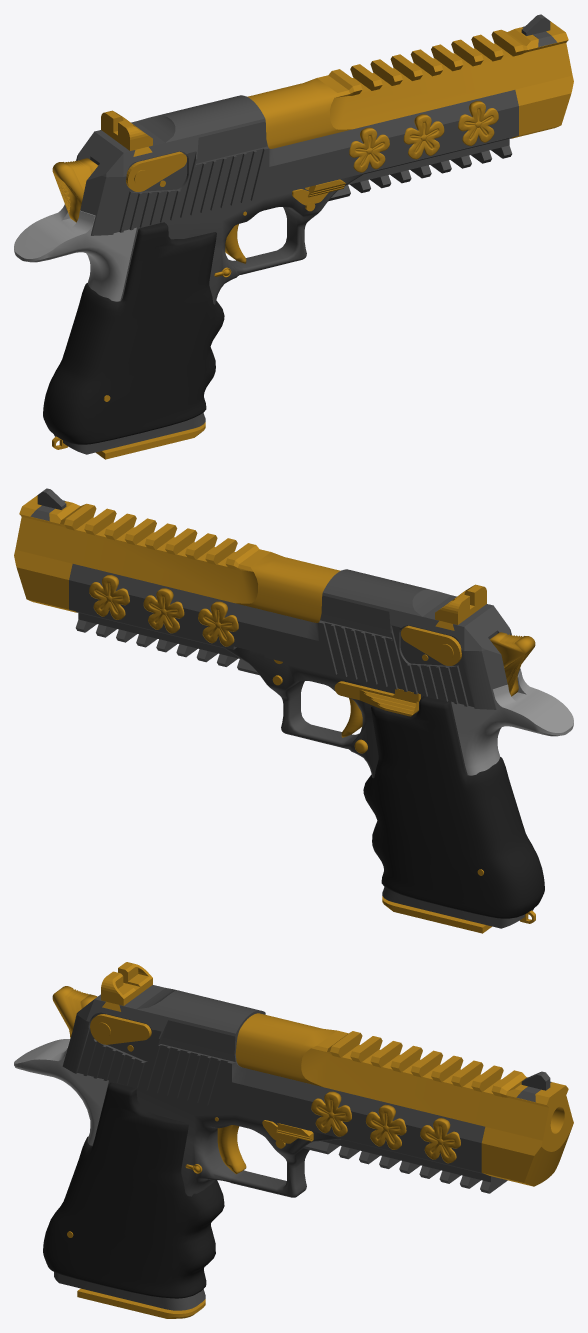
The model's file is DE-Blessing.fbx.
The picture shows the model from 3 angles, top to bottom: view 1: azimuth 30°, elevation 25°; view 2: azimuth 150°, elevation 25°; view 3: azimuth 330°, elevation 25°; orthographic projection.
Visible parts, largest first — view 1: Cube.008; view 2: Cube.008; view 3: Cube.008.
Boxes of the visible parts, x1,y1,x2,y2 form: Cube.008: (14,14,573,459); Cube.008: (14,488,573,933); Cube.008: (14,962,573,1318).
Bounding box in the file's own units: 26.69 × 15.31 × 3.44.
